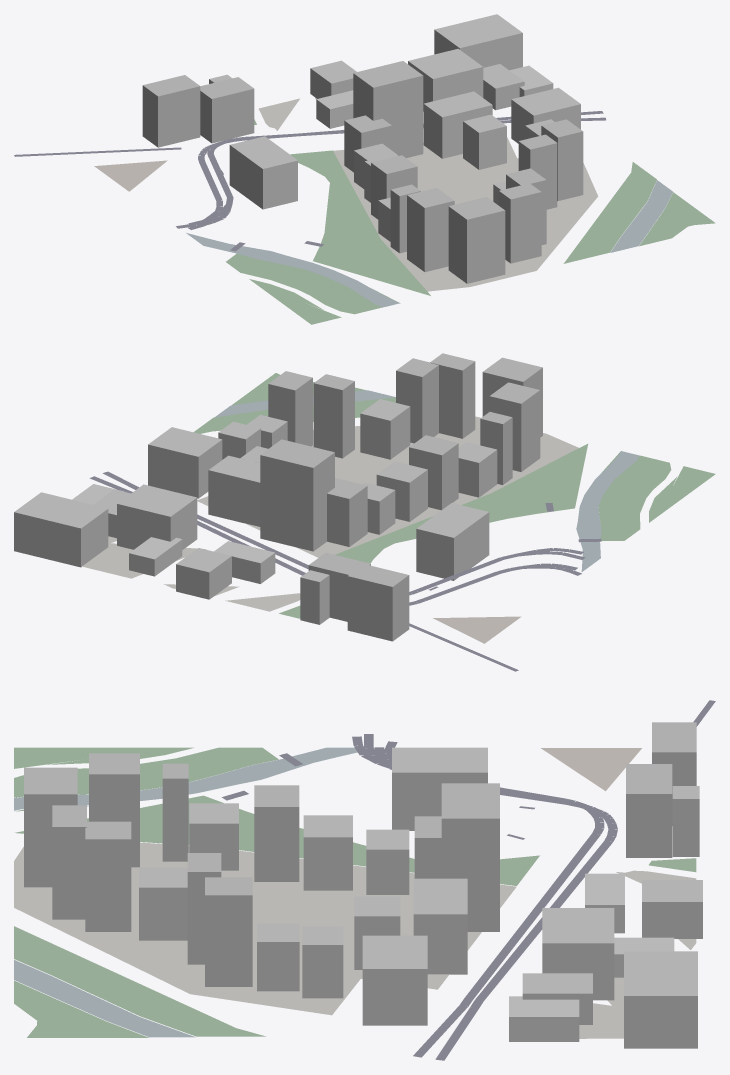
File: 129_102_mid.glb
3 renders of one model, top to bottom at view 1: azimuth 30°, elevation 25°; view 2: azimuth 150°, elevation 25°; view 3: azimuth 270°, elevation 25°, orthographic. The views are drawn at different scales.
Bounding box in the file's own units: 606 × 93.25 × 515.
